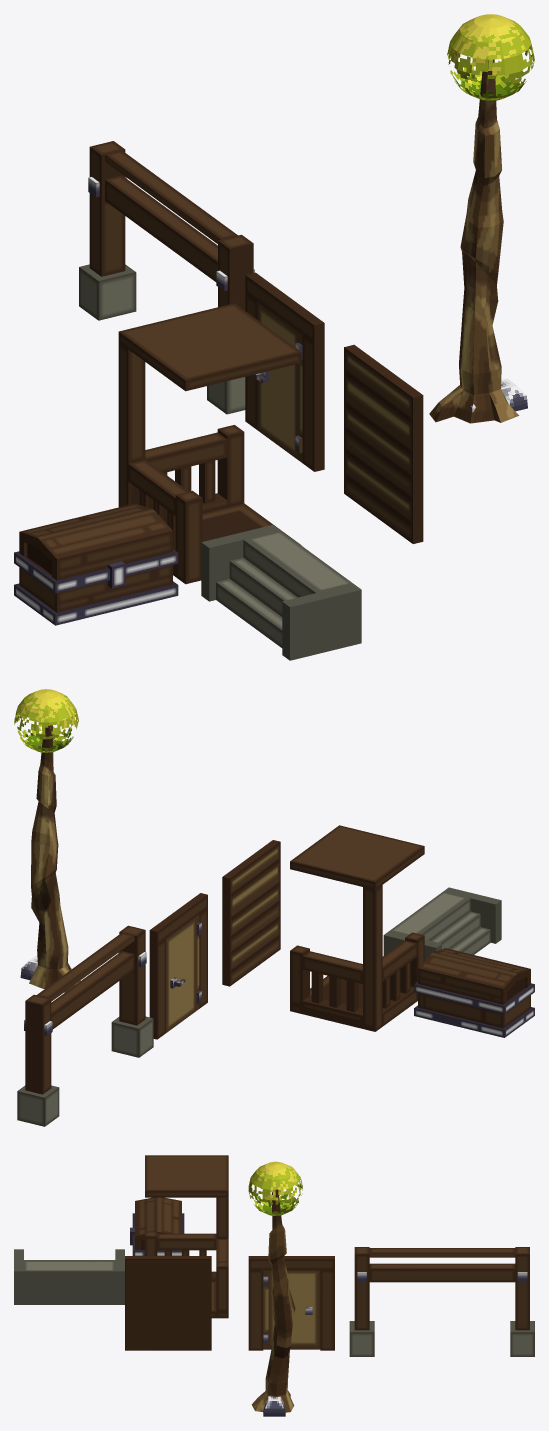
Rendered from Environment_1.fbx.
3 renders of one model, top to bottom at view 1: azimuth 30°, elevation 25°; view 2: azimuth 150°, elevation 25°; view 3: azimuth 270°, elevation 25°, orthographic. The views are drawn at different scales.
Visible parts, largest first — view 1: Krilco, Holder, Stairs_0, cube, Tree_2, Chest_Opener, Doorway, Bush, Chest_Bottom, Door; view 2: Krilco, Holder, cube, Tree_2, Chest_Opener, Stairs_0, Doorway, Door, Bush, Chest_Bottom; view 3: Holder, cube, Krilco, Stairs_0, Tree_2, Doorway, Door, Chest_Opener, Bush, Metal_Slug.
Boxes of the visible parts, <box> form: Krilco: <box>118,303,301,584</box>; Holder: <box>79,141,254,414</box>; Stairs_0: <box>201,525,361,660</box>; cube: <box>344,344,423,543</box>; Tree_2: <box>429,59,519,423</box>; Chest_Opener: <box>14,503,178,593</box>; Doorway: <box>245,272,324,471</box>; Bush: <box>447,14,534,100</box>; Chest_Bottom: <box>14,565,178,625</box>; Door: <box>254,302,302,462</box>; Krilco: <box>290,825,424,1031</box>; Holder: <box>17,925,153,1126</box>; cube: <box>222,840,280,986</box>; Tree_2: <box>29,723,80,992</box>; Chest_Opener: <box>414,948,534,1014</box>; Stairs_0: <box>383,887,501,960</box>; Doorway: <box>149,893,207,1039</box>; Door: <box>166,914,201,1032</box>; Bush: <box>14,689,78,752</box>; Chest_Bottom: <box>414,993,534,1037</box>; Holder: <box>349,1247,534,1356</box>; cube: <box>125,1256,211,1350</box>; Krilco: <box>145,1155,228,1318</box>; Stairs_0: <box>14,1249,124,1304</box>; Tree_2: <box>251,1189,295,1412</box>; Doorway: <box>248,1256,334,1350</box>; Door: <box>263,1270,320,1349</box>; Chest_Opener: <box>130,1197,184,1255</box>; Bush: <box>248,1161,302,1215</box>; Metal_Slug: <box>263,1396,285,1416</box>.
Bounding box in the file's own units: 1433 × 915 × 1758.
10 materials, 10 textured.
